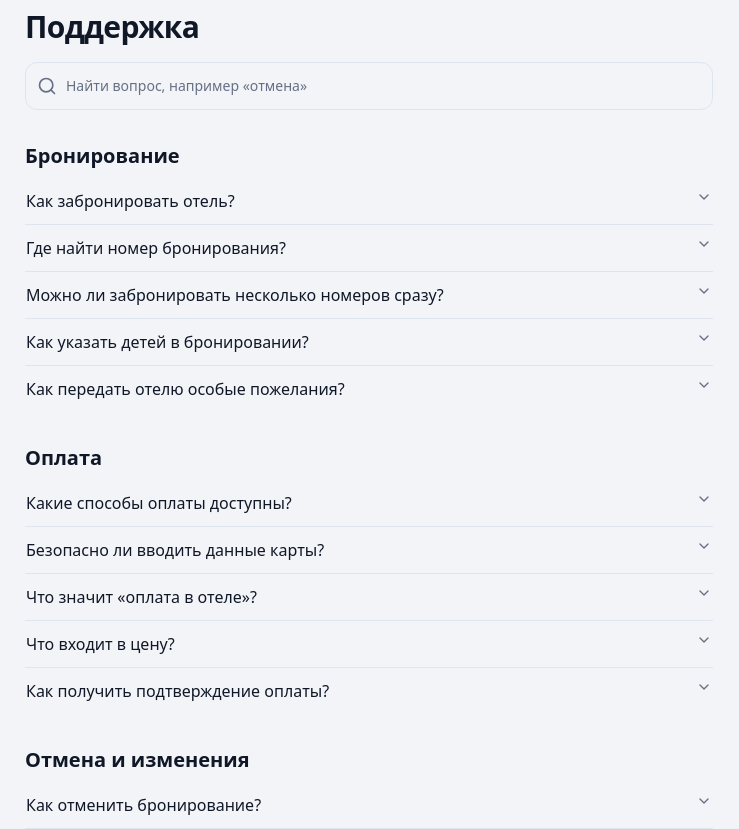
Test case: help page › says nothing was found and links to the form
This screenshot has width=739, height=829.
Type "qwertyzzz" into the search field at (369, 86), box [25,62,713,110]
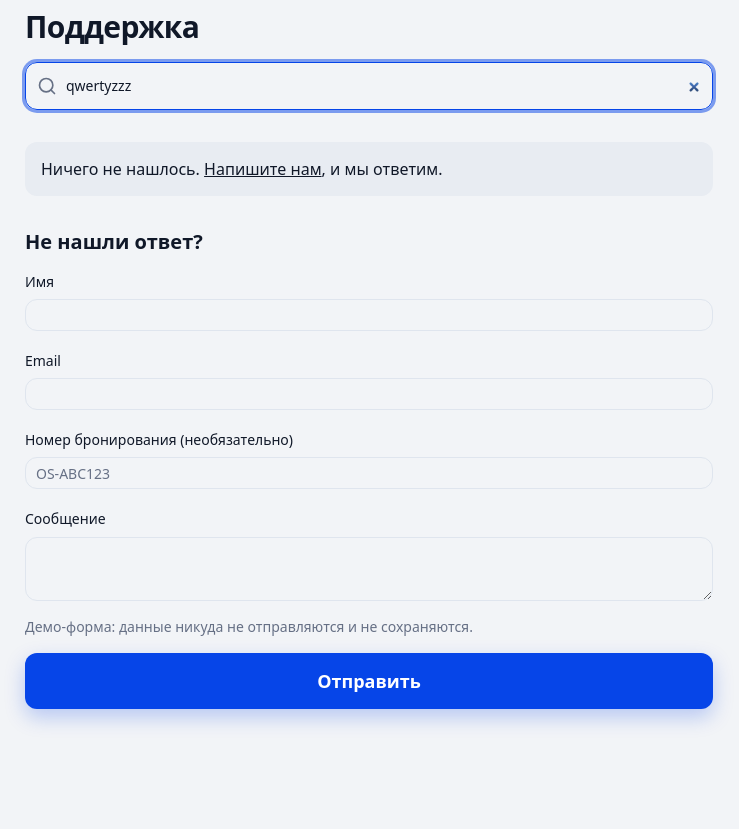
Expected: the text "Ничего не нашлось. Напишите нам , и мы ответим." is shown, [25,142,713,196]
